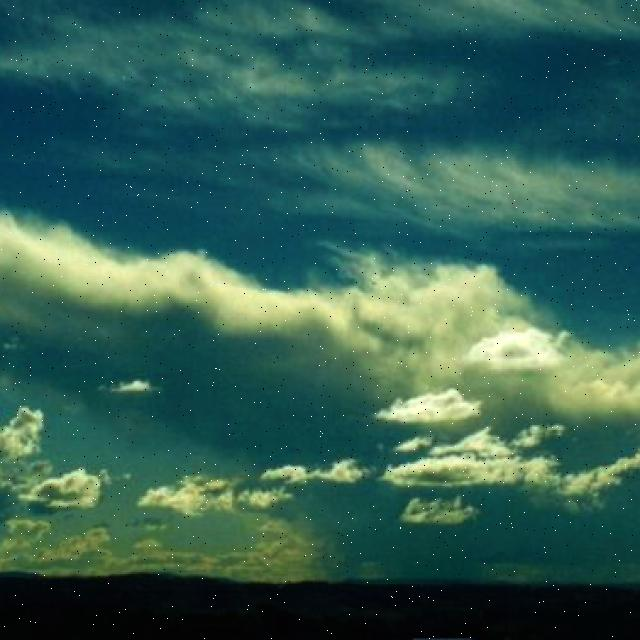Ci: (1, 67, 640, 529)
